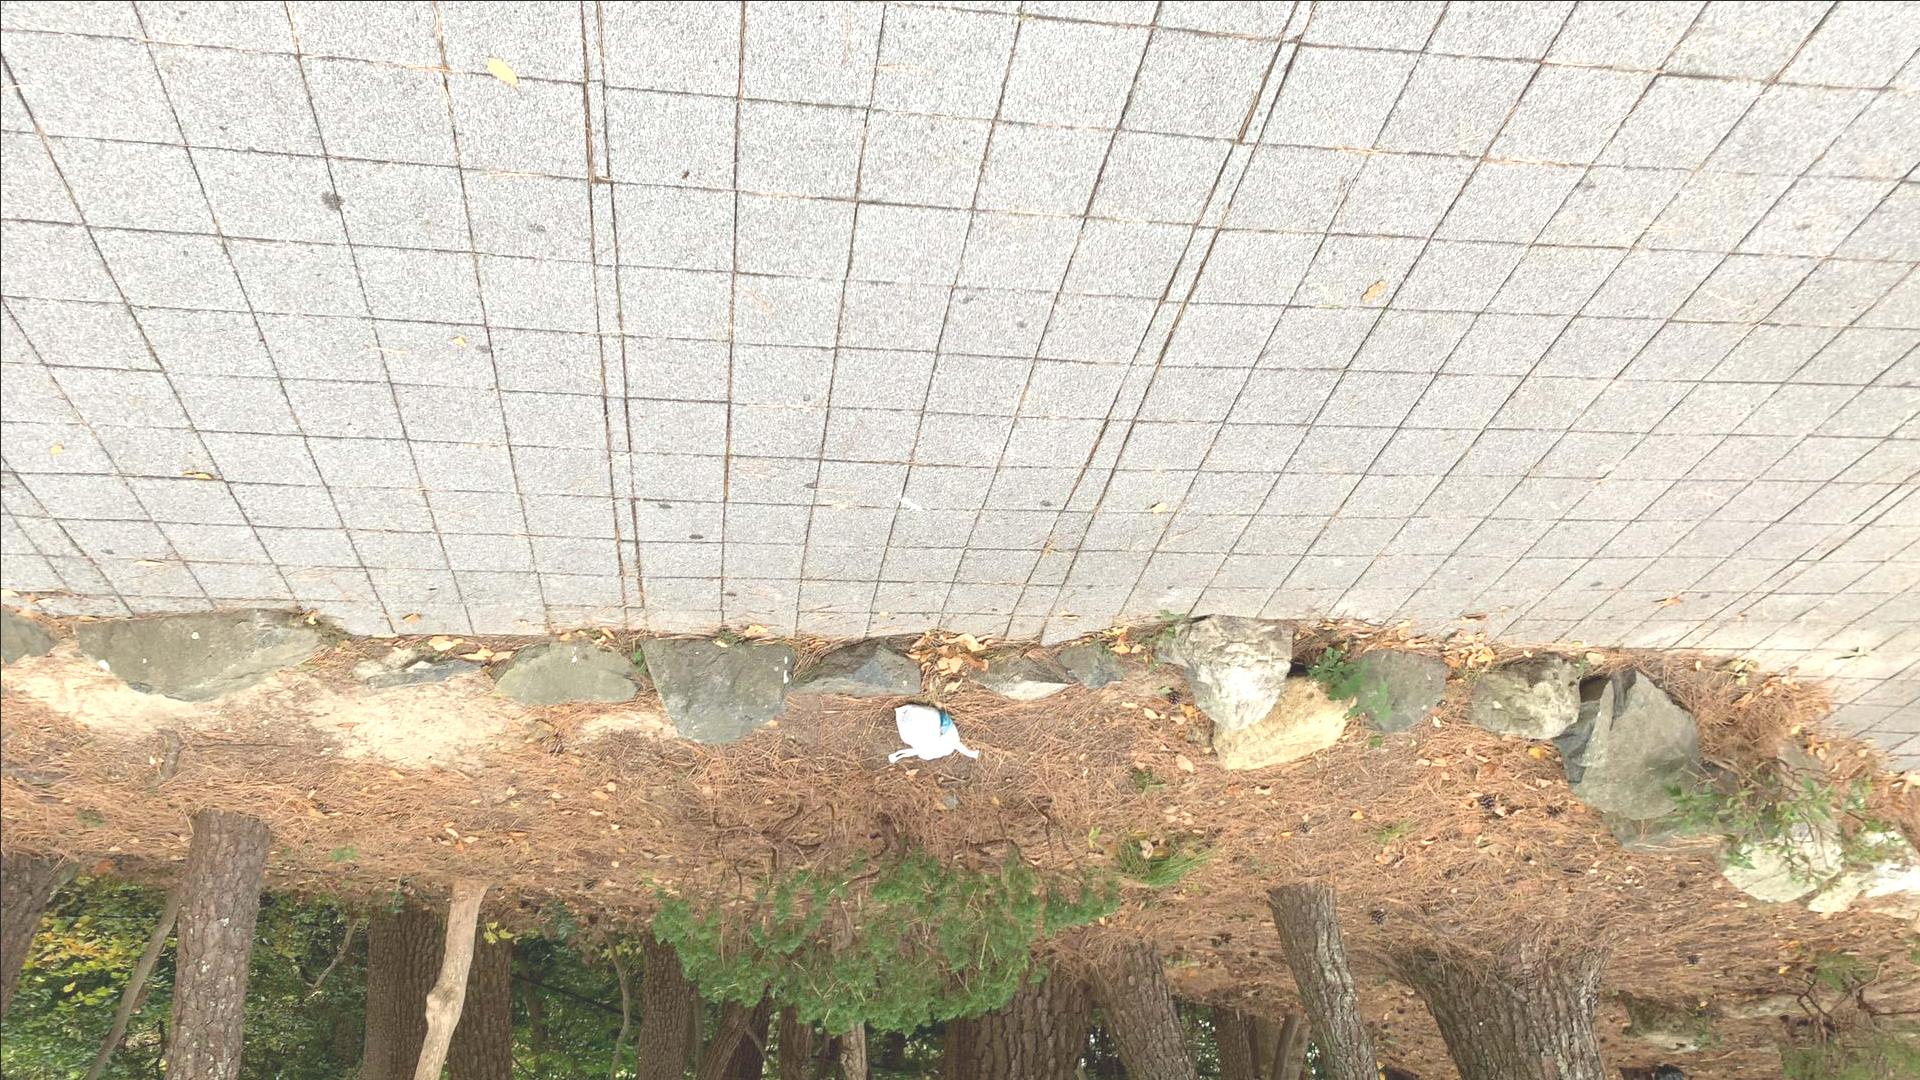white_bag: (877, 696, 988, 770)
